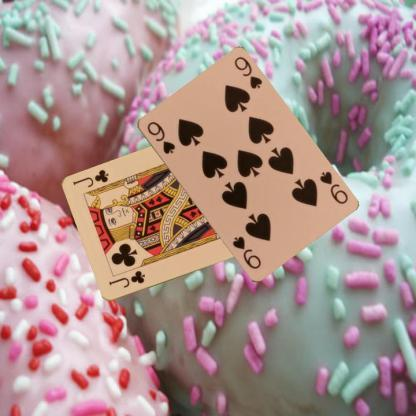9s: (316, 168, 350, 206), (144, 118, 176, 156)
Jc: (106, 268, 146, 290)
